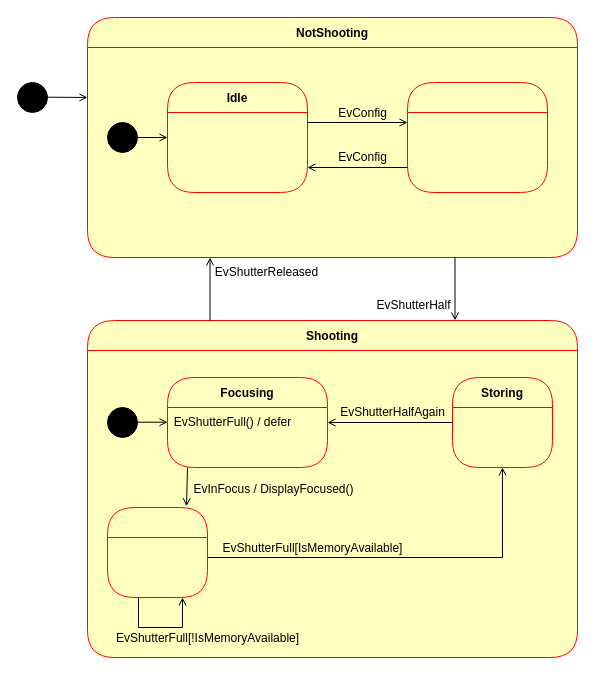
Image size: 595x675. Some labels were removed from this diagram. Here are the shapes that lost their labels. From the top down, the centre of each, then its label:
At (x=477, y=137): "Configuring".
At (x=157, y=552): "Focused".
